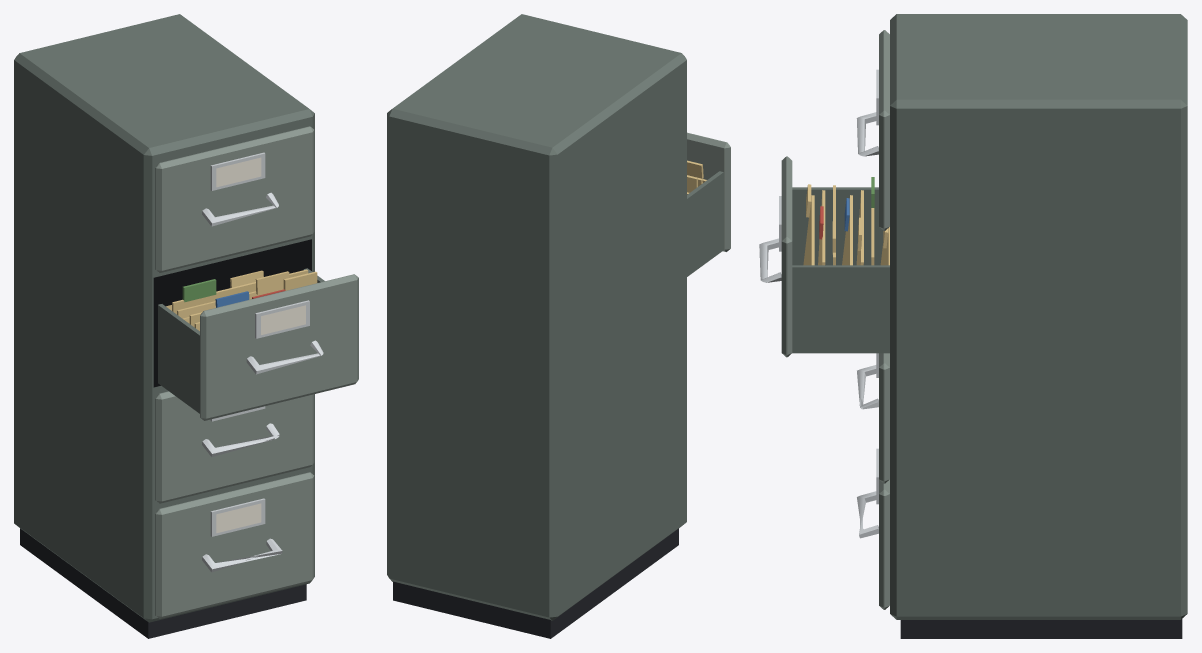
Rendered from Shop_FilingCabinet.fbx.
3 renders of one model, left to right at view 1: azimuth 30°, elevation 25°; view 2: azimuth 150°, elevation 25°; view 3: azimuth 270°, elevation 25°, orthographic. The views are drawn at different scales.
Parts seen in each view (by area): view 1: Body, Fronts, Plinth, Chrome, Cavity, DrawerBox, Cards, Folders, TabsE3C98F, Tabs6E9E62; view 2: Body, Plinth, DrawerBox, Fronts; view 3: Body, DrawerBox, Fronts, Plinth, Chrome, Folders.
Boxes of the visible parts, box(x1,y1,x2,y2) form: Body: box(14, 14, 314, 622); Fronts: box(155, 126, 358, 618); Plinth: box(20, 528, 306, 638); Chrome: box(202, 152, 323, 572); Cavity: box(153, 239, 311, 387); DrawerBox: box(158, 268, 324, 413); Cards: box(216, 157, 305, 533); Folders: box(166, 269, 308, 330); TabsE3C98F: box(230, 270, 317, 294); Tabs6E9E62: box(182, 279, 216, 302); Body: box(387, 14, 686, 620); Plinth: box(393, 528, 678, 638); DrawerBox: box(687, 171, 723, 276); Fronts: box(687, 132, 730, 251); Body: box(890, 14, 1187, 619); DrawerBox: box(792, 187, 889, 353); Fronts: box(781, 30, 889, 609); Plinth: box(900, 619, 1182, 638); Chrome: box(759, 69, 878, 538); Folders: box(803, 185, 889, 265).
Bounding box in the file's own units: 160 × 440 × 316.
